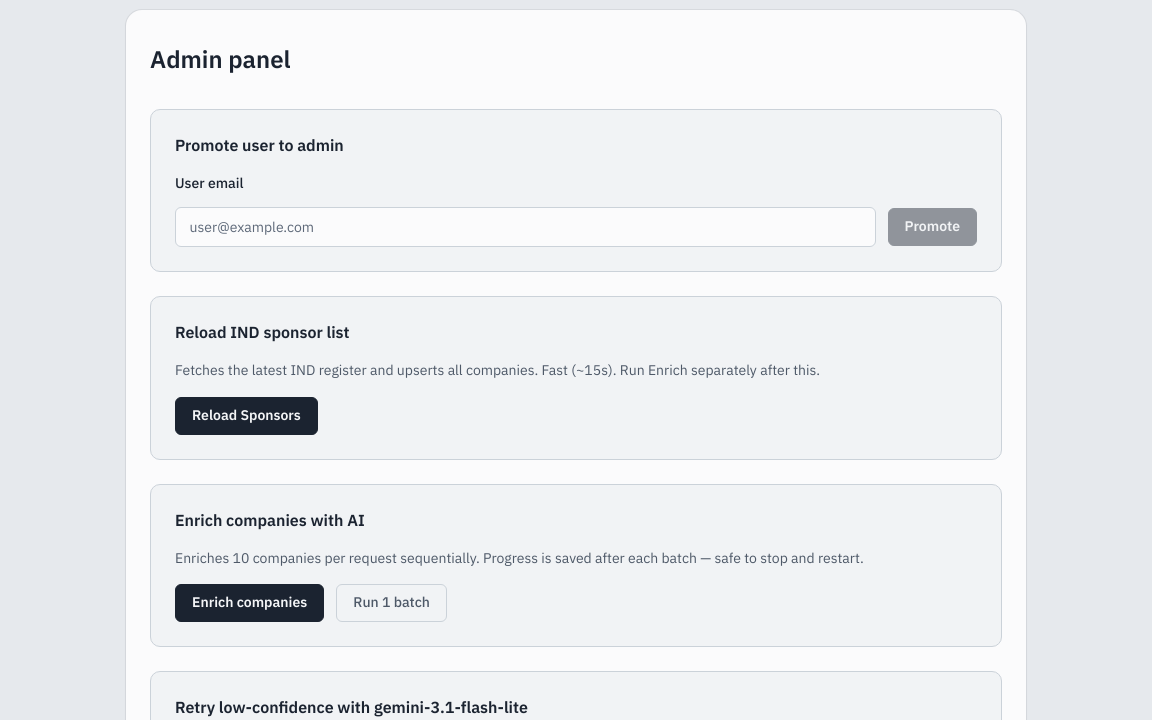
Scenario: AdminView – reloading the IND register › reports what the sync did and refreshes the history
Click the button "Reload Sponsors": x=246, y=416 [175, 397, 318, 435]
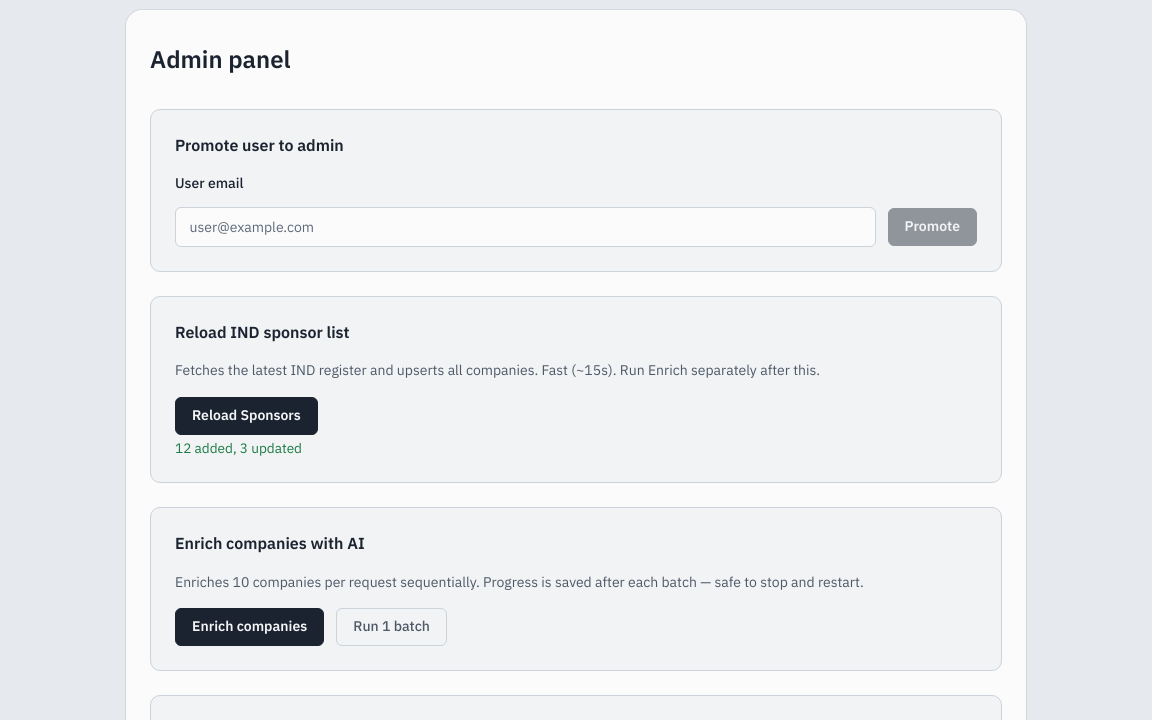
Result: the message with class "form-success" reads "12 added, 3 updated" at [175, 439, 302, 457]
